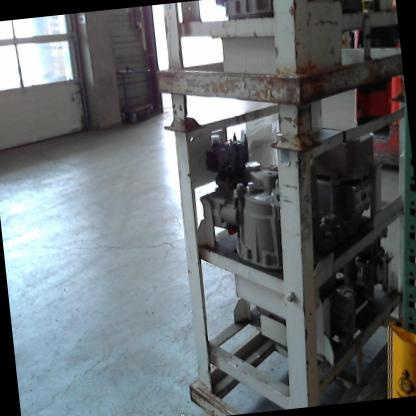pallet_truck: (345, 9, 411, 173)
